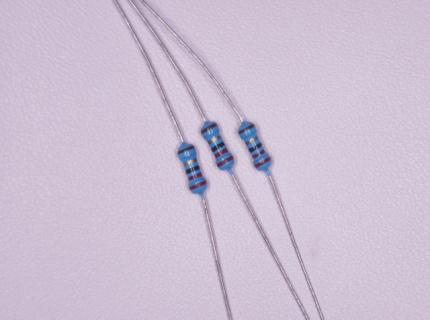Black band: (249, 142, 263, 153), (211, 141, 225, 152), (185, 165, 200, 174)
Brown band: (238, 123, 255, 135), (201, 123, 218, 135), (178, 145, 194, 155)
Gold band: (207, 135, 221, 145), (246, 135, 259, 145), (183, 158, 197, 167)
Red band: (254, 156, 271, 169), (217, 156, 234, 168), (189, 180, 207, 190), (214, 148, 228, 159), (252, 149, 266, 159), (188, 172, 202, 181)
